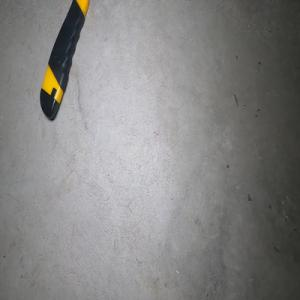Cutter: (39, 0, 91, 120)
